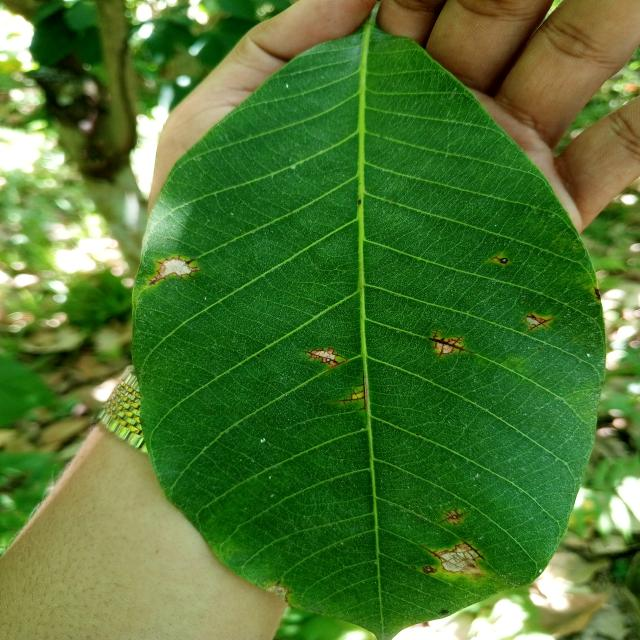Colletotrichum: (257, 355, 261, 357)
Corynespora: (148, 254, 202, 286), (428, 330, 474, 358), (336, 373, 367, 410), (304, 346, 348, 369), (460, 539, 486, 561), (523, 313, 553, 332), (420, 545, 450, 563), (438, 508, 467, 526), (487, 253, 508, 265)
Leaf-Blight: (441, 544, 481, 575), (159, 260, 191, 276), (265, 586, 288, 602)
